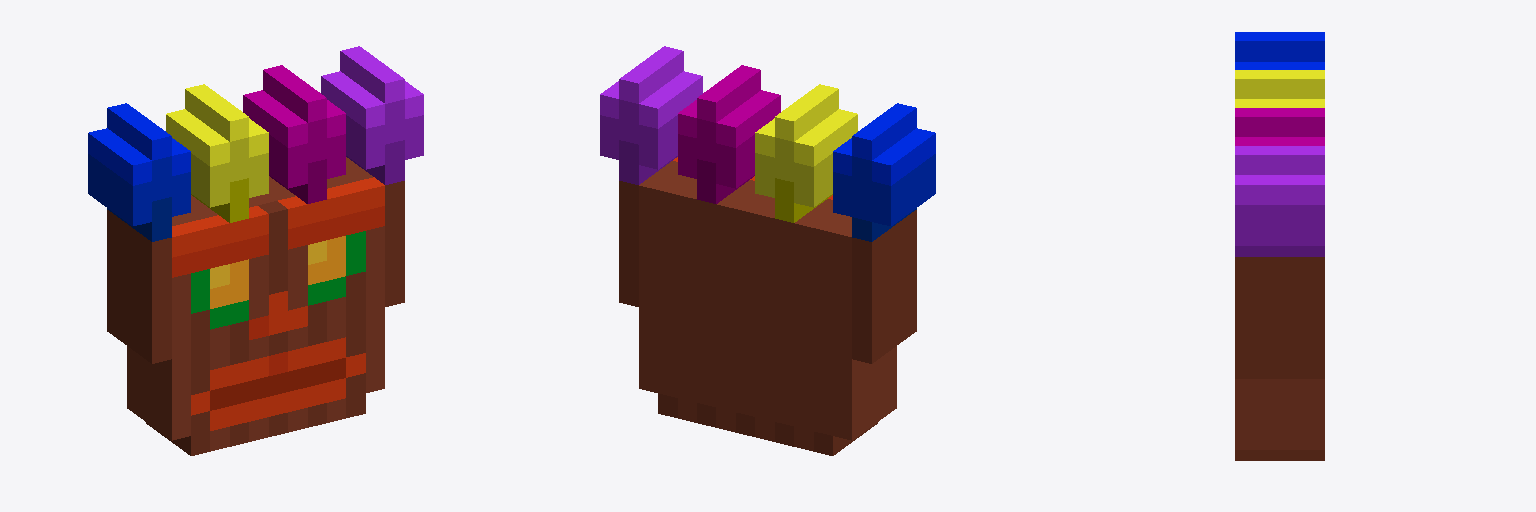
The picture shows the model from 3 angles: view 1: azimuth 30°, elevation 25°; view 2: azimuth 150°, elevation 25°; view 3: azimuth 270°, elevation 25°; orthographic projection.
Visible parts, largest first — view 1: object 1; view 2: object 1; view 3: object 1.
Boxes of the visible parts, x1,y1,x2,y2 form: object 1: [88, 46, 423, 455]; object 1: [600, 46, 935, 455]; object 1: [1235, 32, 1324, 460].
Size of the model in its own units: 1.5 by 1.6 by 0.4.
1 materials, 1 textured.